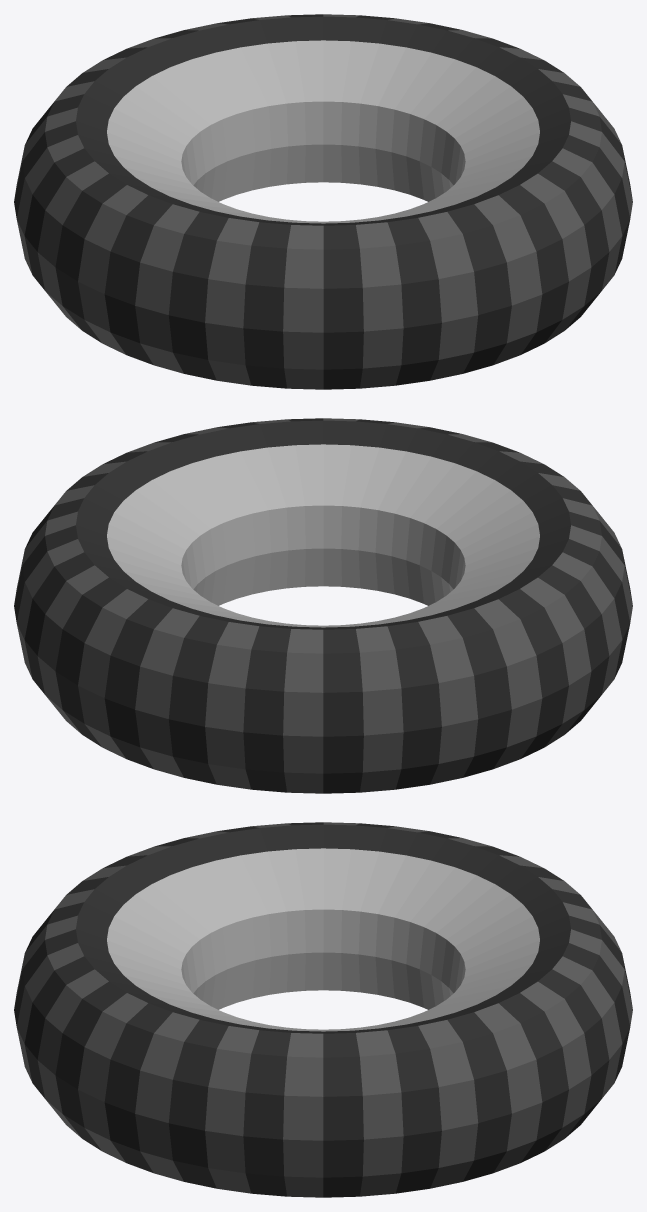
File: tire.fbx
3 views of the same model, one above another, from view 1: azimuth 30°, elevation 25°; view 2: azimuth 150°, elevation 25°; view 3: azimuth 270°, elevation 25° (orthographic).
Parts seen in each view (by area): view 1: Torus; view 2: Torus; view 3: Torus.
Part boxes in pixels (left/top/right/bottom): Torus: left=14, top=14, right=632, bottom=389; Torus: left=14, top=418, right=632, bottom=793; Torus: left=14, top=822, right=632, bottom=1197.
Size of the model in its own units: 250 by 72.04 by 250.
